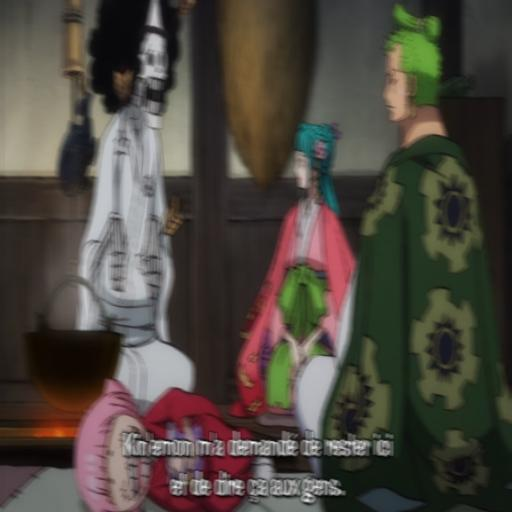Zoro: (331, 5, 512, 512)
